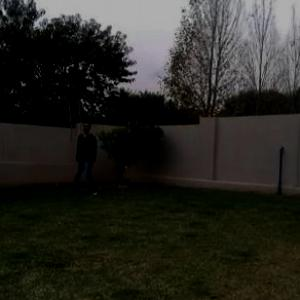follow: (76, 118, 96, 197)
